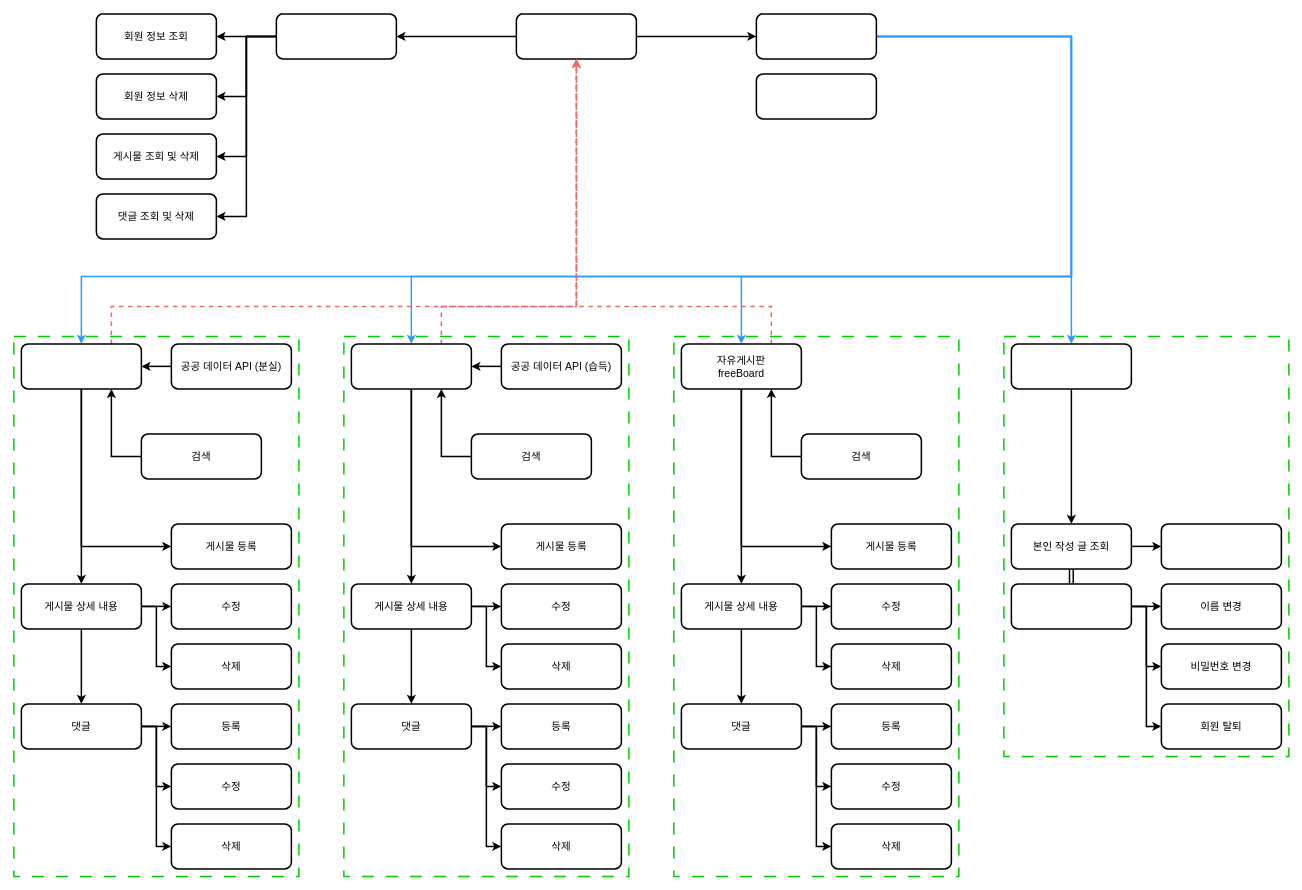
This 1302x890 diagram has some shape labels left out. Each missing label, with the centre of its shape:
"관리자 페이지 admin" goes at [336,36].
"로그인 login" goes at [816,36].
"마이페이지 profile" goes at [1071,366].
"메인화면 dashboard" goes at [576,36].
"분실게시판 lostBoard" goes at [81,366].
"습득게시판 foundBoard" goes at [411,366].
"조회" goes at [1221,546].
"회원 정보 수정" goes at [1071,606].
"회원가입 signUp" goes at [816,96].
